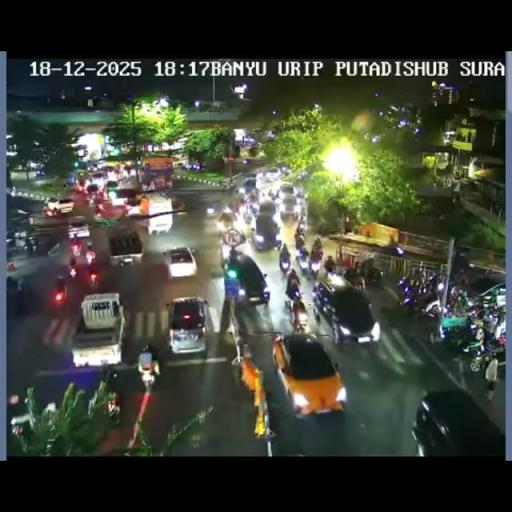Car: (272, 333, 346, 417), (411, 389, 503, 455), (310, 273, 380, 342), (70, 294, 126, 368), (222, 247, 270, 306), (166, 296, 209, 354), (139, 192, 174, 233), (107, 229, 143, 267), (250, 208, 281, 250), (162, 246, 196, 278), (278, 184, 300, 219), (44, 197, 74, 216), (67, 218, 90, 240), (106, 187, 130, 207), (263, 168, 282, 182), (242, 177, 258, 193), (90, 171, 106, 186), (86, 183, 99, 196)
Motorcycle: (464, 325, 504, 372), (402, 282, 440, 320), (436, 313, 474, 351), (284, 269, 308, 329), (448, 283, 470, 308), (362, 263, 384, 287), (343, 264, 364, 289), (294, 246, 311, 274), (465, 302, 486, 324), (106, 390, 120, 422), (6, 275, 24, 299), (139, 363, 156, 388), (52, 282, 67, 308), (224, 228, 243, 246), (87, 266, 100, 290), (26, 236, 43, 254), (278, 249, 290, 273), (228, 196, 239, 221), (6, 236, 20, 255), (309, 254, 322, 274), (310, 237, 322, 257), (216, 214, 228, 233), (296, 213, 306, 234), (242, 207, 254, 224), (70, 238, 81, 256), (324, 255, 335, 273), (294, 233, 305, 250), (121, 201, 133, 216), (261, 188, 272, 202), (85, 250, 95, 265), (226, 182, 237, 194), (459, 272, 468, 286), (69, 264, 77, 278), (94, 201, 102, 215), (8, 186, 17, 196)
